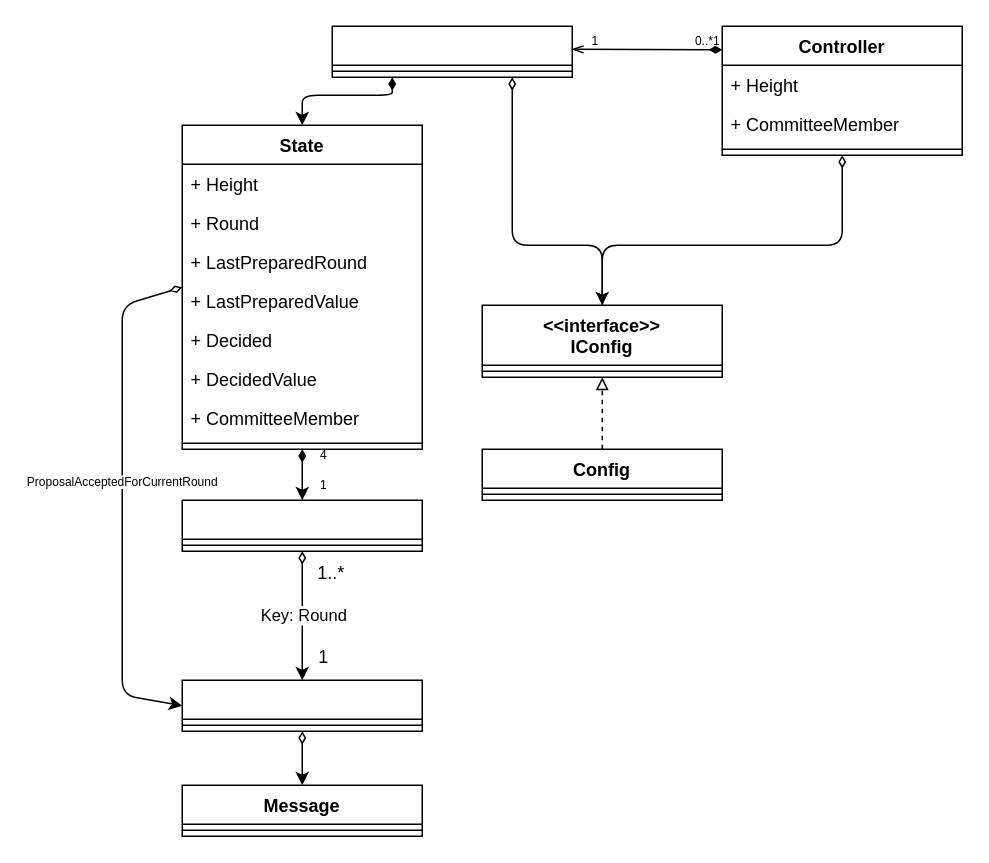
The diagram is 989 pixels wide and 863 high, and some of its shapes have lost their labels. Here are the shapes that lost their labels. From the top down, the centre of each, then its label:
pixel 451 51: Instance
pixel 301 525: MessageContainer
pixel 301 705: ProcessingMessage
